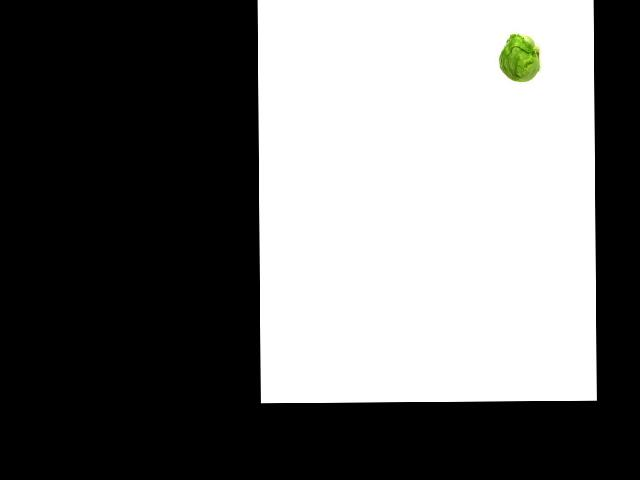lettuce: (494, 28, 539, 86)
